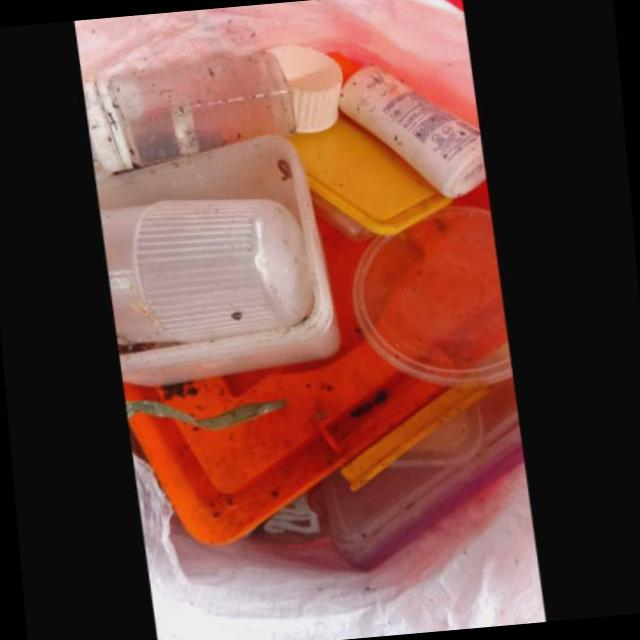chai_nhua: (109, 199, 321, 346), (94, 52, 307, 173), (338, 52, 496, 199)
hop_nhua: (130, 205, 446, 548), (105, 135, 348, 388), (360, 206, 519, 388)
